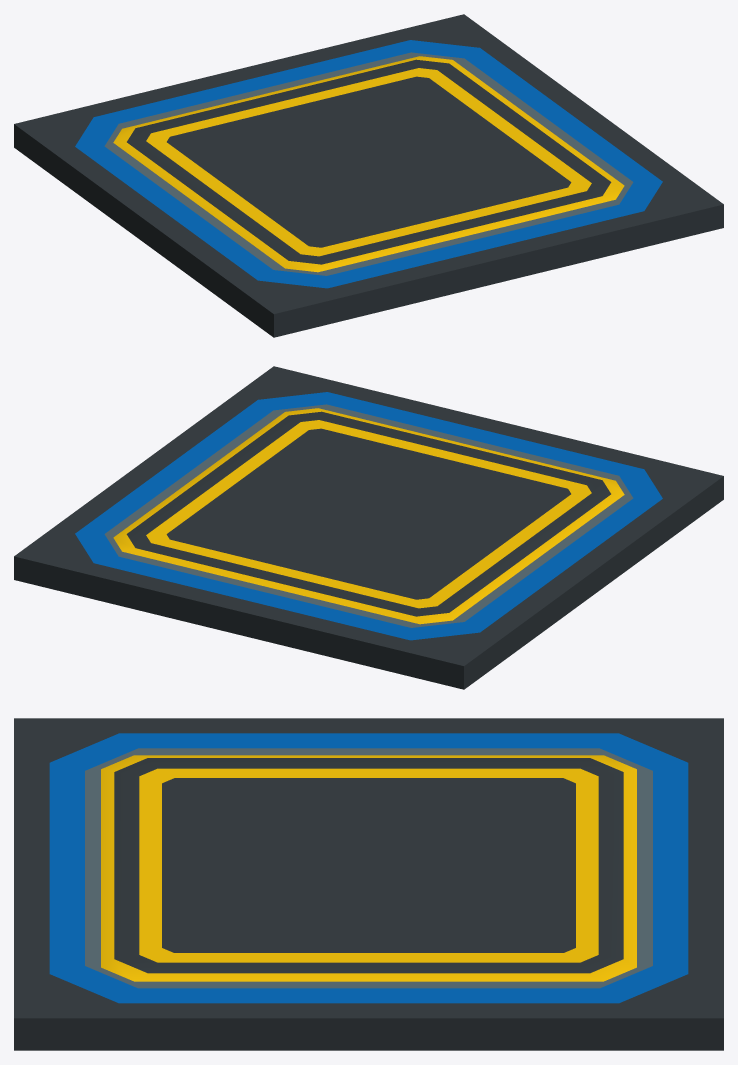
Rendered from Platform_009.fbx.
3 views of the same model, one above another, from view 1: azimuth 30°, elevation 25°; view 2: azimuth 150°, elevation 25°; view 3: azimuth 270°, elevation 25° (orthographic). The views are drawn at different scales.
Parts seen in each view (by area): view 1: Platform_009; view 2: Platform_009; view 3: Platform_009.
Boxes of the visible parts, x1,y1,x2,y2 form: Platform_009: (14,14,723,337); Platform_009: (14,366,723,689); Platform_009: (14,718,723,1050).
Bounding box in the file's own units: 400 × 400 × 23.45.
